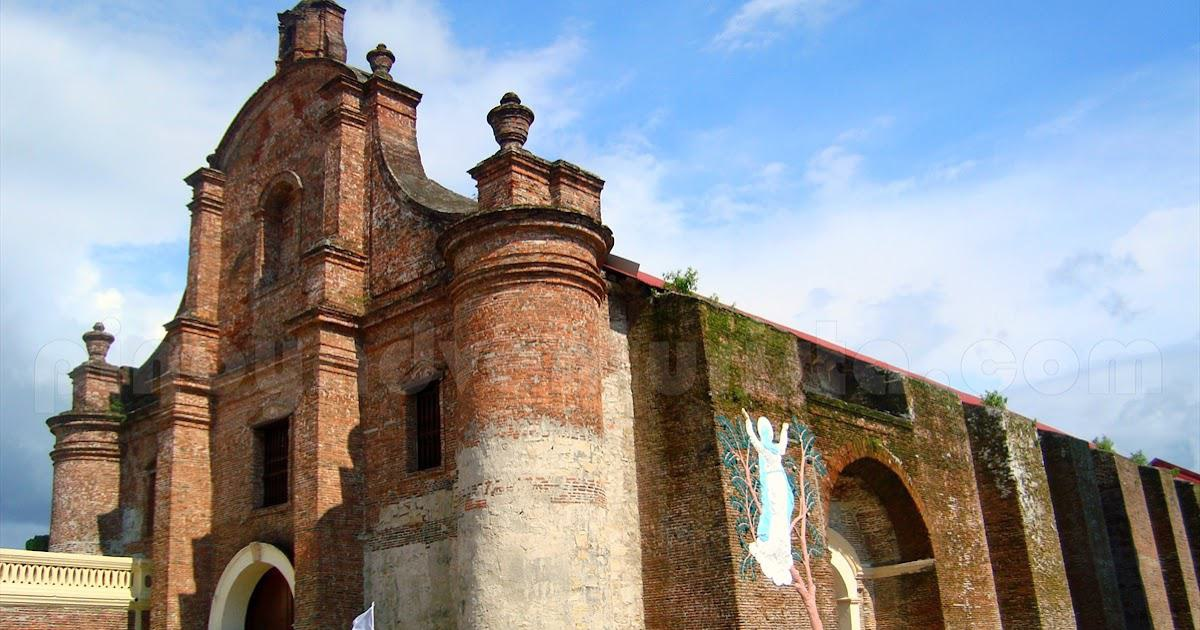santa_maria_church_santa_maria_ilocos_sur: (42, 3, 626, 630)
unfinished_paint: (350, 399, 641, 630)
water_damage_or_mold: (817, 396, 915, 462), (703, 299, 802, 361), (915, 383, 972, 473), (715, 375, 796, 417)
